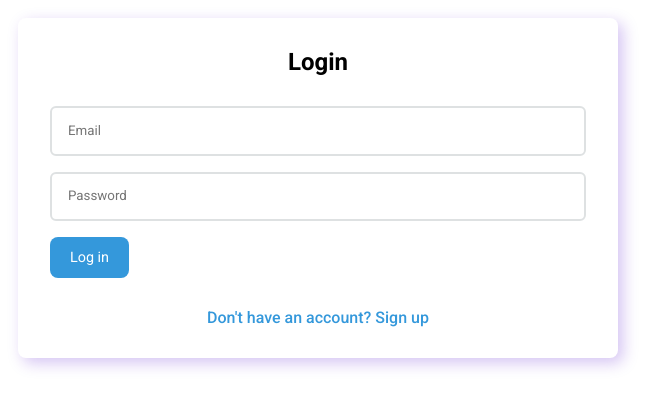
Scenario: LoginForm Component › displays error message on failed login
Type "test@example.com" into the field with placeholder "Email" at (318, 131), box [50,106,586,156]
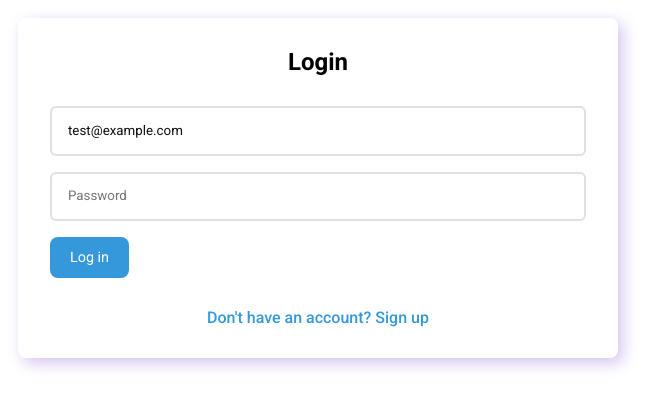
Type "password" into the password field with placeholder "Password" at (318, 196), box [50,172,586,221]
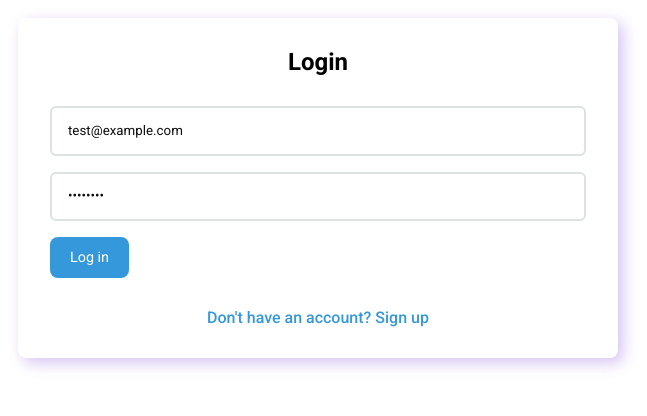
Click the button "Log in" at (90, 258), box [50,237,129,278]
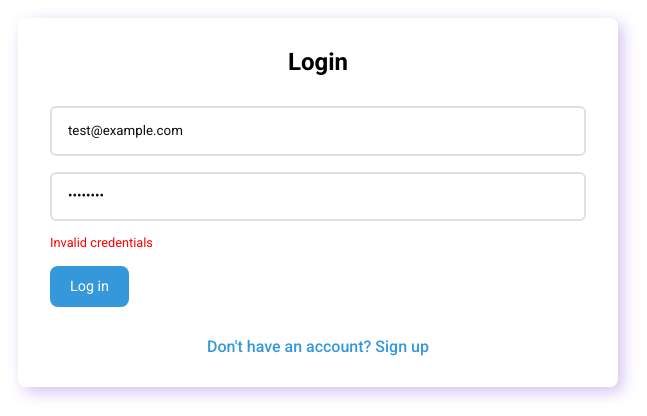
Now the text "Invalid credentials" is shown, box [50,235,153,250]
